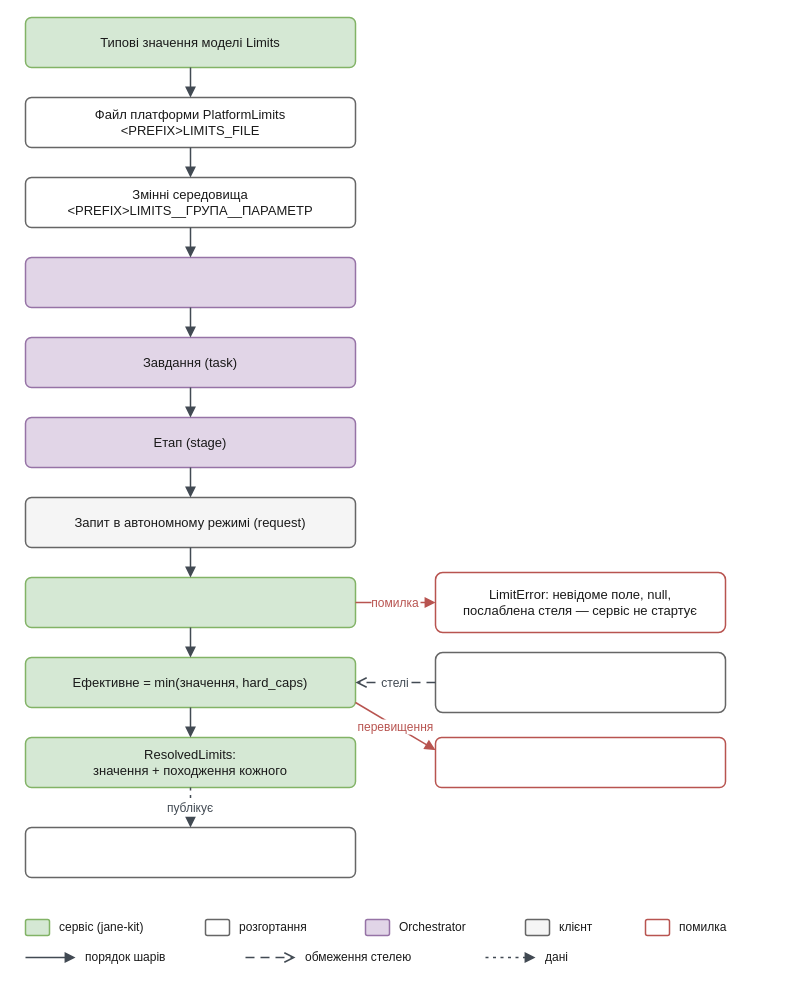
The diagram is 785 pixels wide and 986 high, and some of its shapes have lost their labels. Each missing label, with the centre of its shape:
"GET /v1/info → limits (лише поля контракту)" belongs at [190,852].
"hard_caps з файлу й змінних платформи; нижчі рівні можуть лише зменшити" belongs at [580,682].
"on_exceed=error: 422 limit_exceeded" belongs at [580,762].
"Джерело (source)" belongs at [190,282].
"Злиття шарів (resolve_limits): нижчий рівень перекриває вищий" belongs at [190,602].
